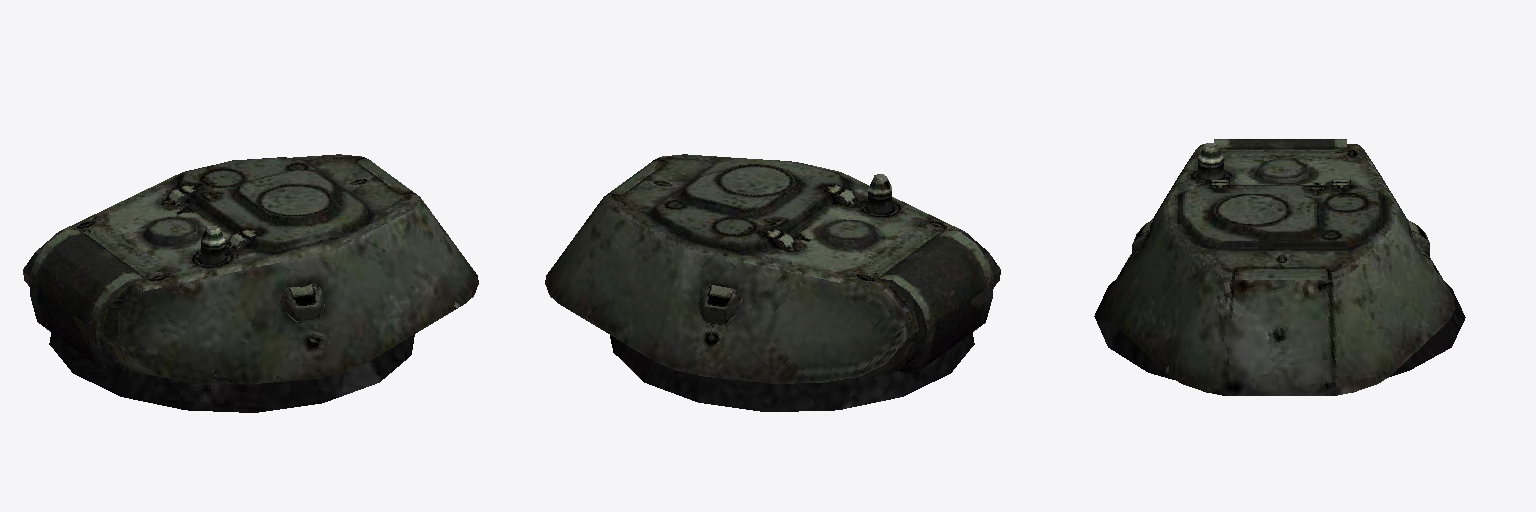
The picture shows the model from 3 angles: view 1: azimuth 30°, elevation 25°; view 2: azimuth 150°, elevation 25°; view 3: azimuth 270°, elevation 25°; orthographic projection.
Visible parts, largest first — view 1: LOD01_t-33.001; view 2: LOD01_t-33.001; view 3: LOD01_t-33.001.
Boxes of the visible parts, x1=… form: LOD01_t-33.001: x1=23, y1=154, x2=478, y2=412; LOD01_t-33.001: x1=545, y1=154, x2=1000, y2=411; LOD01_t-33.001: x1=1094, y1=139, x2=1465, y2=395.
Bounding box in the file's own units: 4.43 × 1.6 × 3.69.
1 materials, 1 textured.